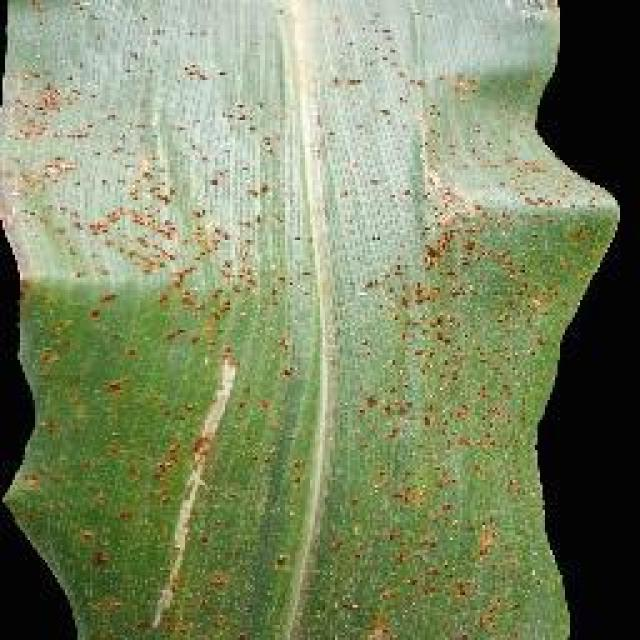Corn Common Rust: (32, 10, 640, 638)
